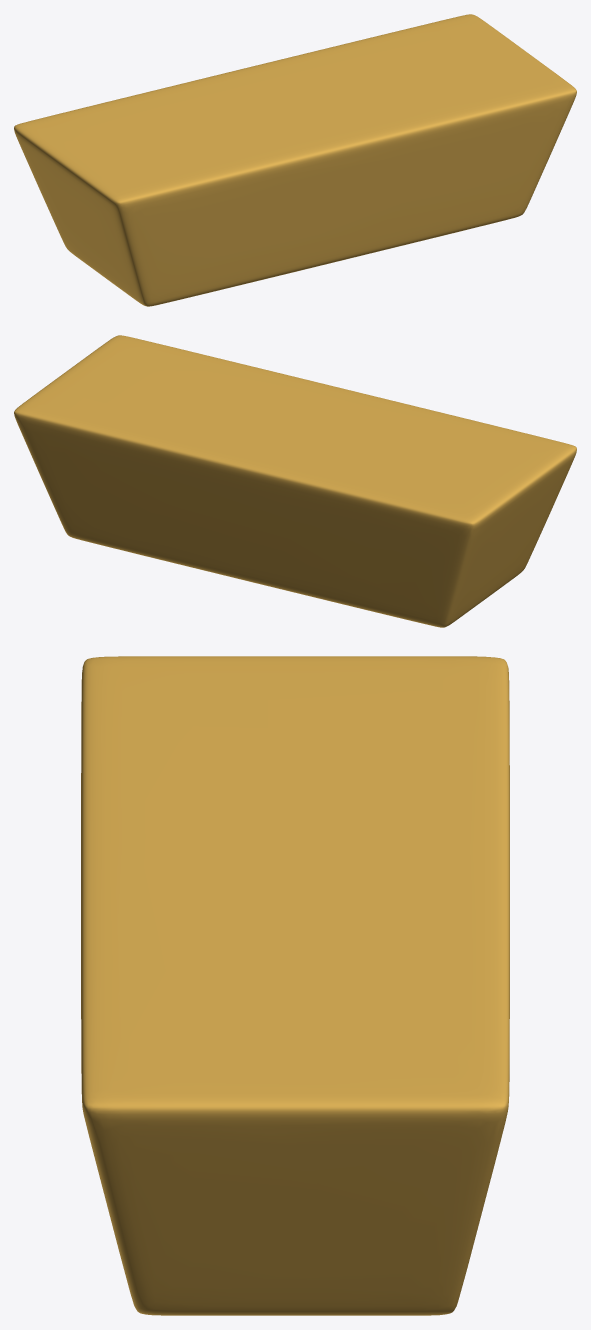
File: gold-bar.glb
3 renders of one model, top to bottom at view 1: azimuth 30°, elevation 25°; view 2: azimuth 150°, elevation 25°; view 3: azimuth 270°, elevation 25°, orthographic. The views are drawn at different scales.
Parts seen in each view (by area): view 1: GROWTH_MasterGoldBar; view 2: GROWTH_MasterGoldBar; view 3: GROWTH_MasterGoldBar.
Part boxes in pixels (box(x1,y1,x2,y2)): GROWTH_MasterGoldBar: box(14, 14, 576, 306); GROWTH_MasterGoldBar: box(14, 335, 576, 627); GROWTH_MasterGoldBar: box(81, 656, 509, 1315).
Size of the model in its own units: 0.155 by 0.0414 by 0.0621.
